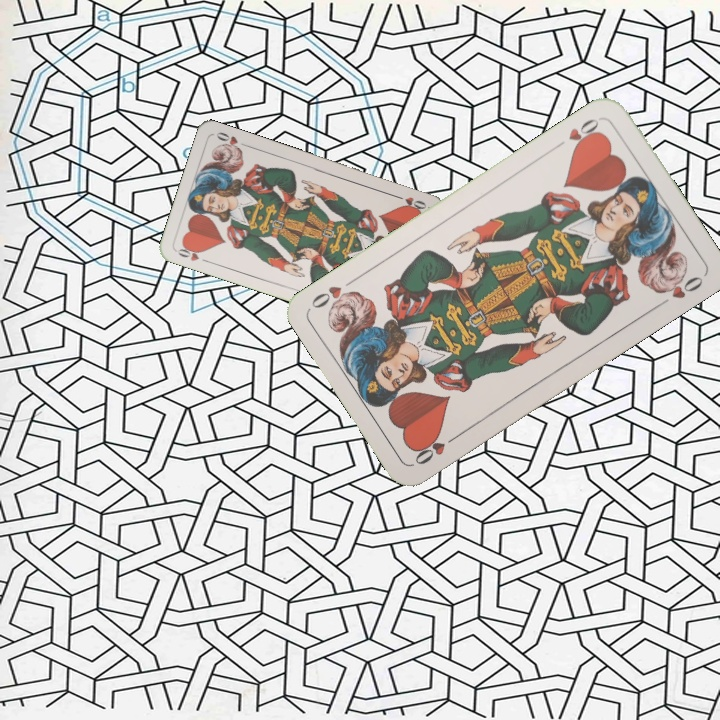HO: (551, 114, 604, 153), (410, 429, 463, 468), (172, 241, 212, 265), (389, 191, 429, 213)
